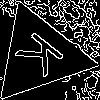K: (14, 30, 74, 85)
